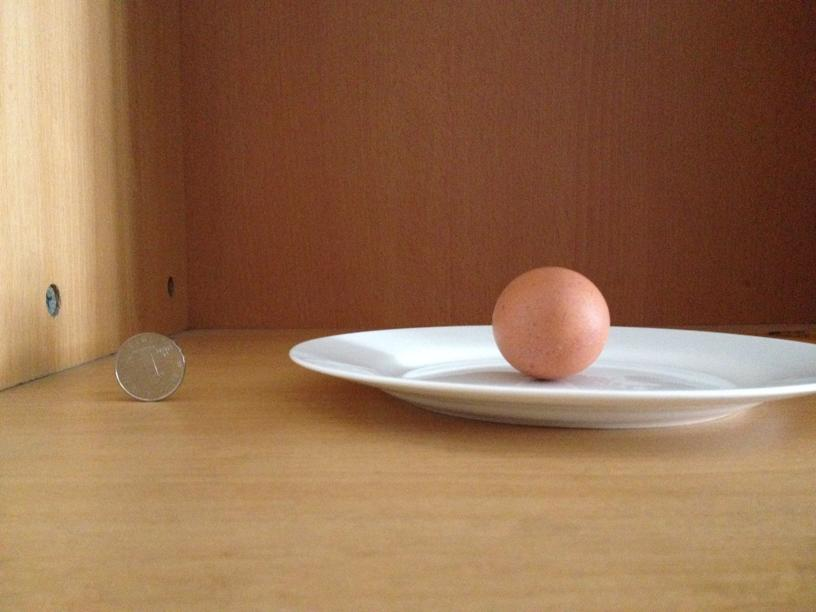coin: (112, 327, 182, 404)
egg: (487, 264, 611, 378)
